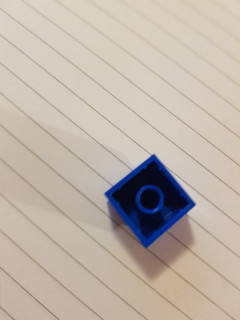2x2 blue: (104, 153, 197, 249)
